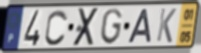4: (23, 9, 42, 47)
A: (126, 8, 153, 45)
C: (44, 8, 70, 47)
G: (99, 8, 124, 46)
K: (155, 7, 178, 44)
X: (71, 6, 101, 48)
